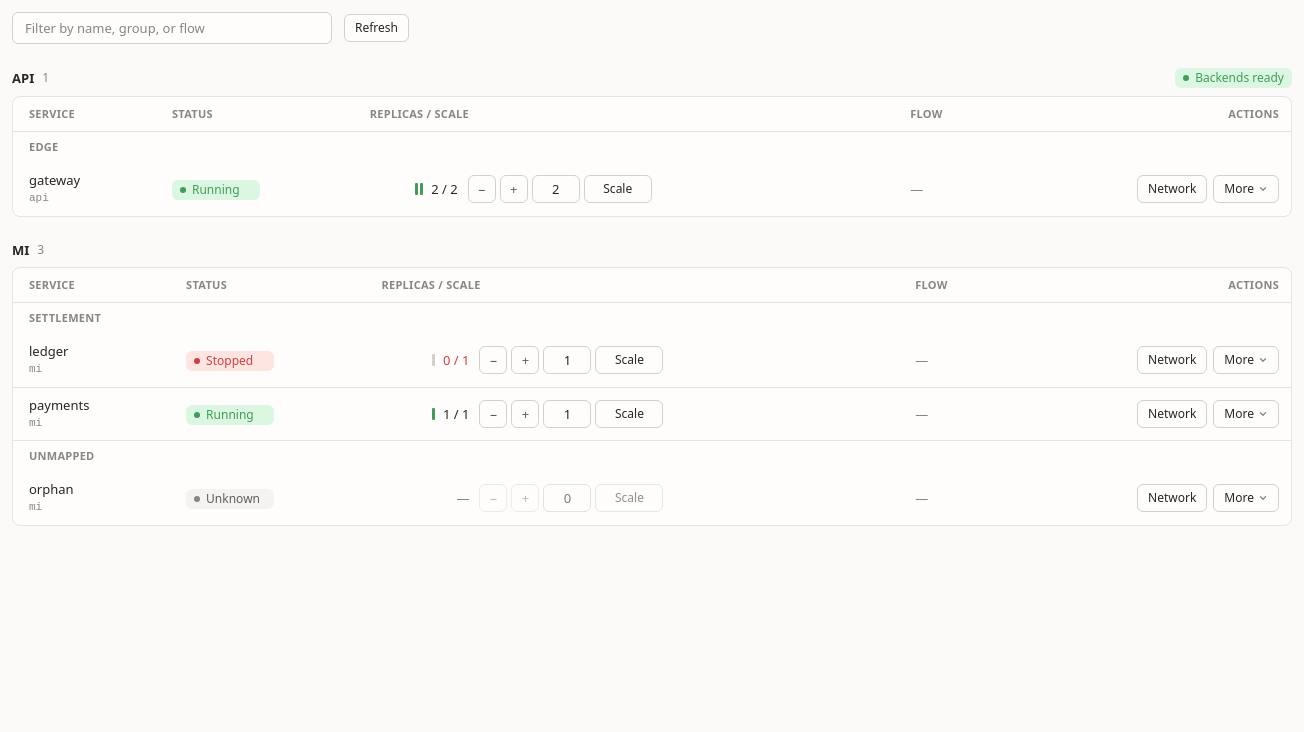
<Inventory/> (operator) › filters rows by the search box
This screenshot has width=1304, height=732.
Expected: the button "payments" is shown, [29,396,89,414]
Step 1. Type "ledger" into the field with placeholder "Filter by name, group, or flow" → (172, 28), box [12,12,332,44]
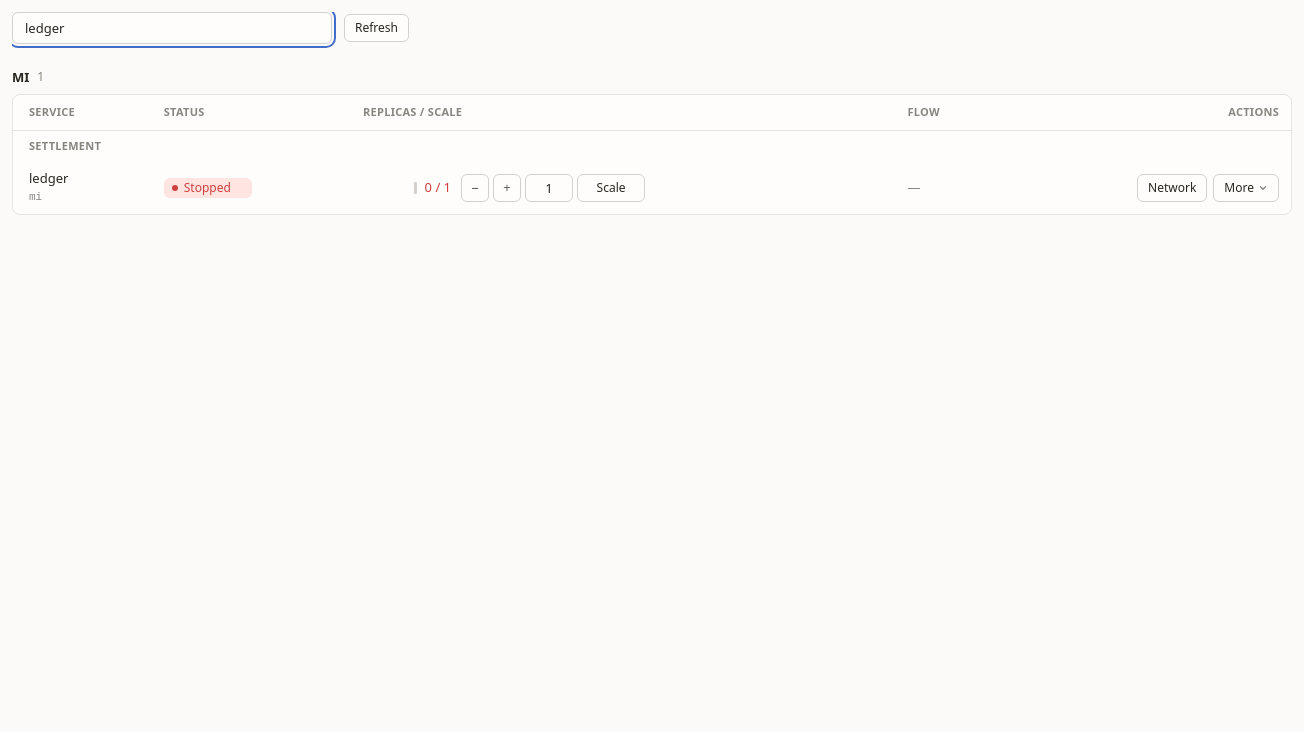
Expected: the button "ledger" is shown, [29,169,68,188]
Expected: the button "payments" is gone
